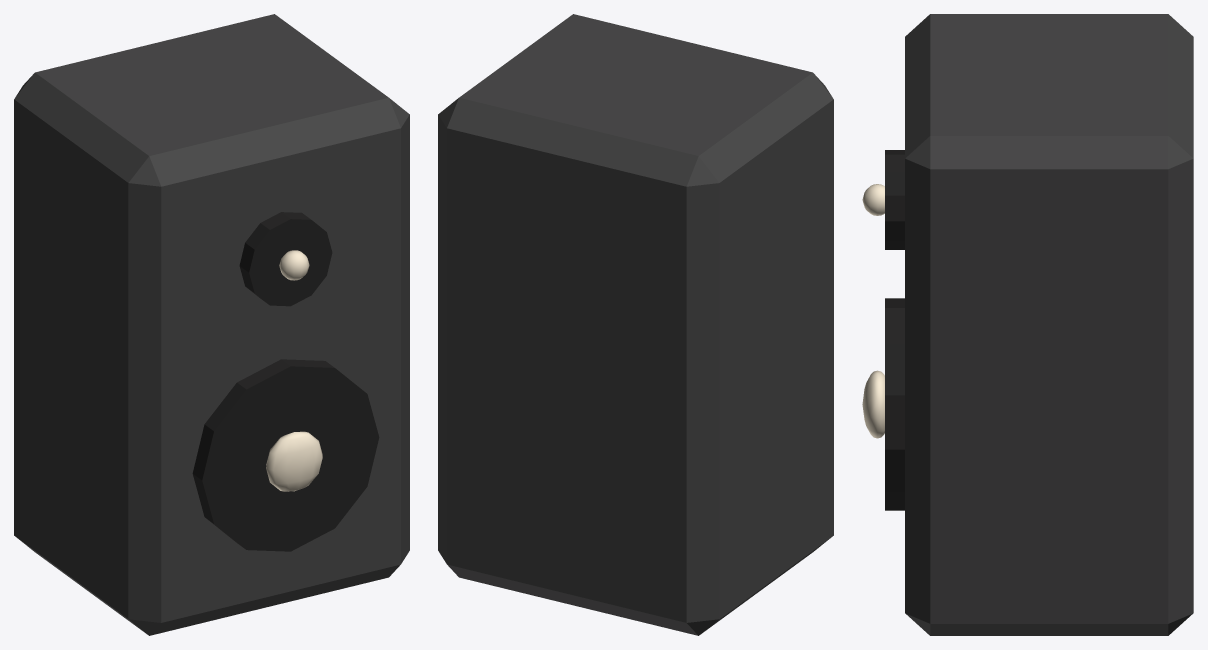
3 views of the same model, side by side, from view 1: azimuth 30°, elevation 25°; view 2: azimuth 150°, elevation 25°; view 3: azimuth 270°, elevation 25° (orthographic). The views are drawn at different scales.
Parts seen in each view (by area): view 1: Enclosure, Driver, Driver.001, Driver cap, Driver cap.001; view 2: Enclosure; view 3: Enclosure, Driver, Driver.001, Driver cap, Driver cap.001.
Part boxes in pixels (x1,y1,x2,y2): Enclosure: (14, 14, 409, 635); Driver: (192, 359, 379, 551); Driver.001: (239, 212, 332, 306); Driver cap: (266, 431, 322, 491); Driver cap.001: (279, 250, 309, 280); Enclosure: (438, 14, 833, 635); Enclosure: (905, 14, 1193, 635); Driver: (885, 298, 904, 510); Driver.001: (885, 150, 904, 249); Driver cap: (862, 370, 884, 438); Driver cap.001: (862, 184, 884, 215).
Size of the model in its own units: 27 by 44 by 26.4.
